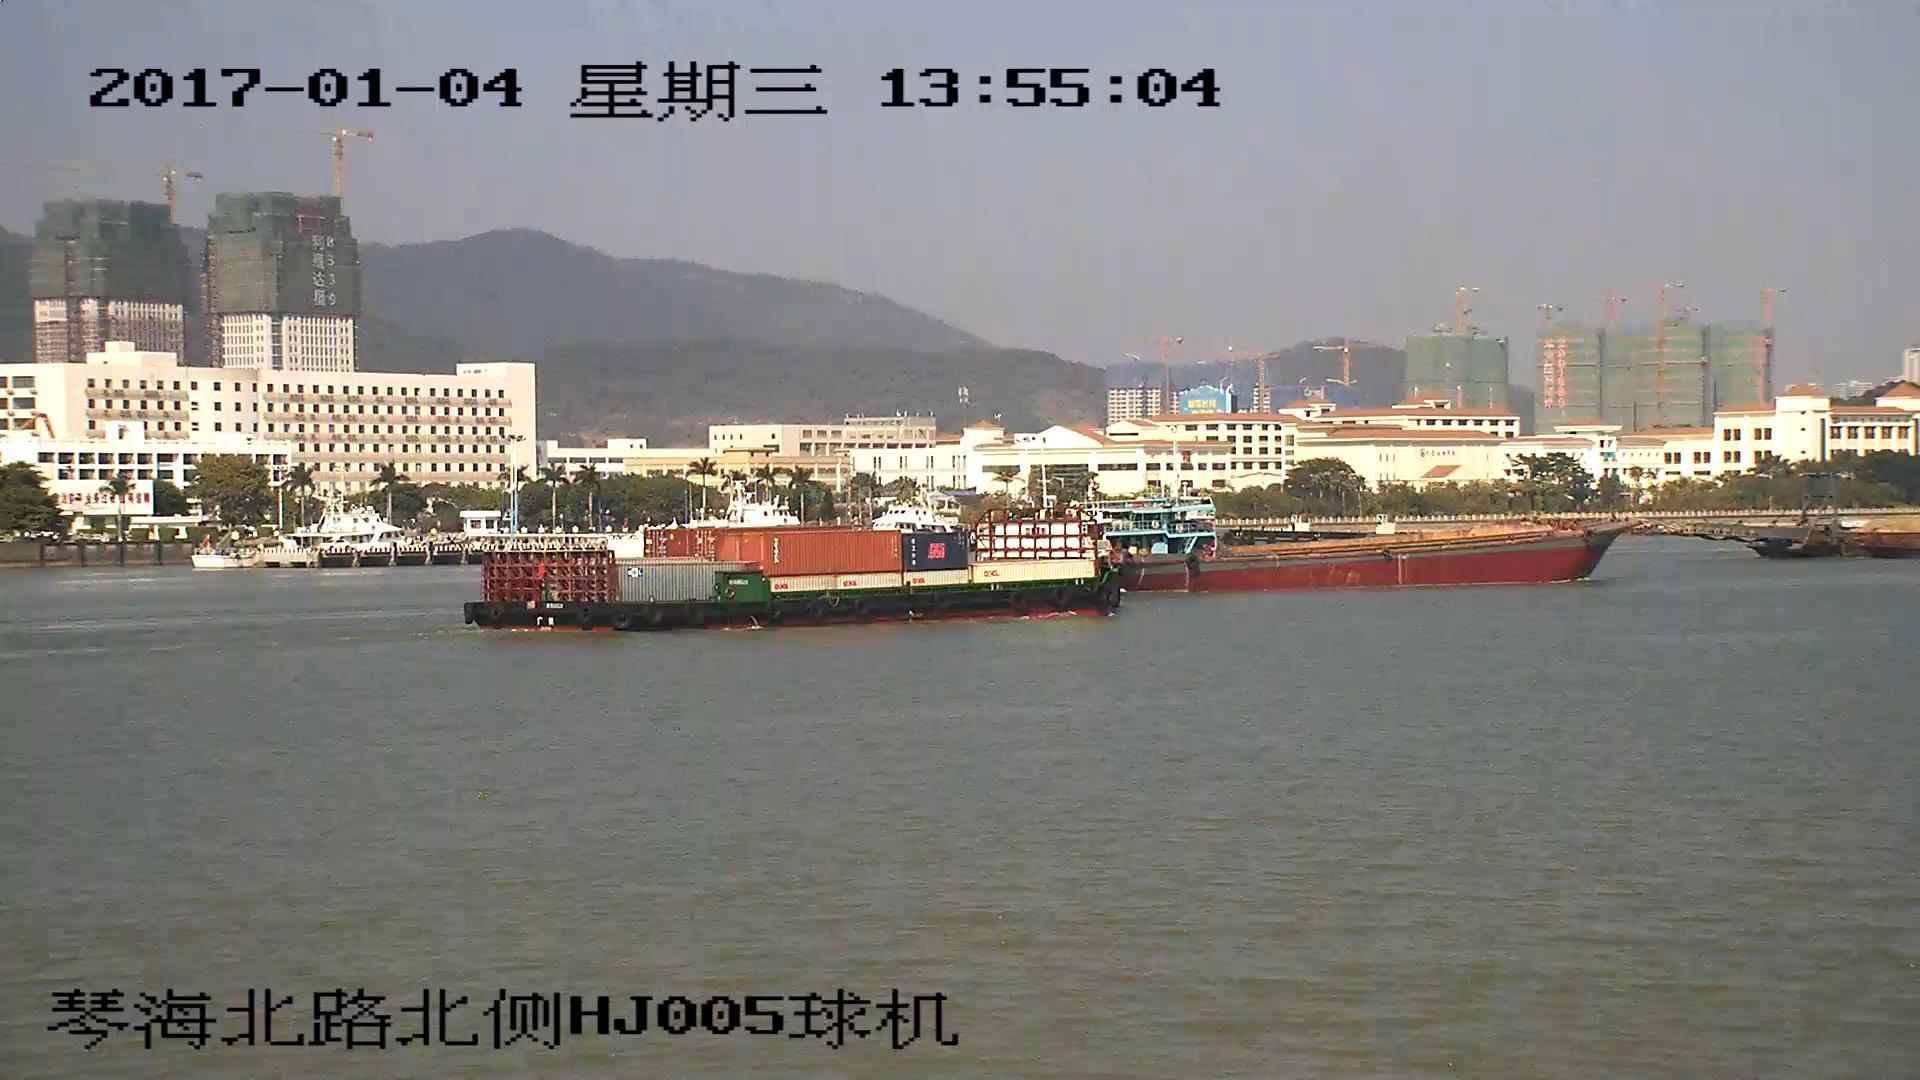Ship: (465, 512, 1120, 632), (1118, 516, 1639, 593), (1671, 504, 1920, 559)
